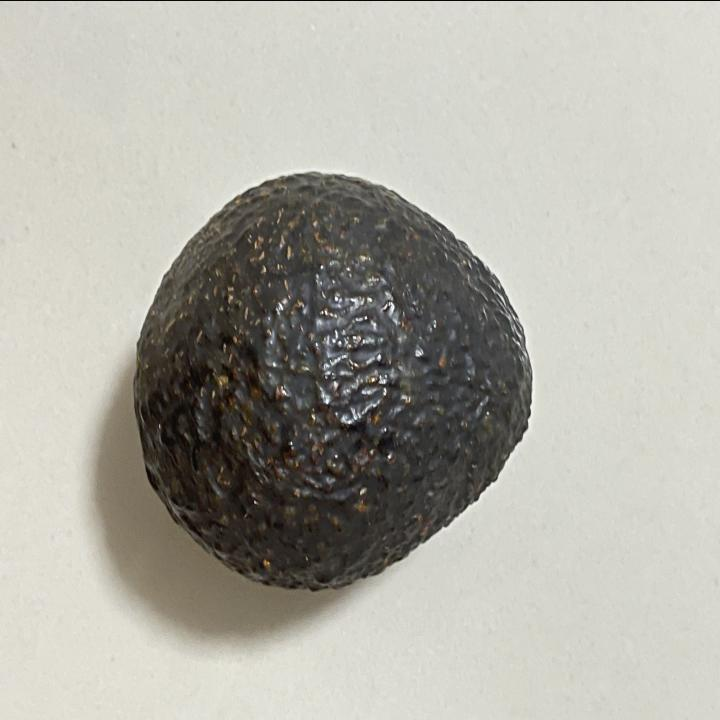Level2: (129, 164, 540, 598)
